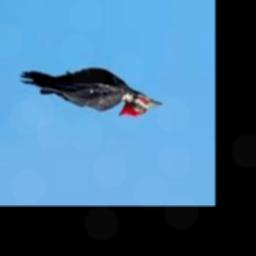Woodpecker: (19, 68, 161, 119)
